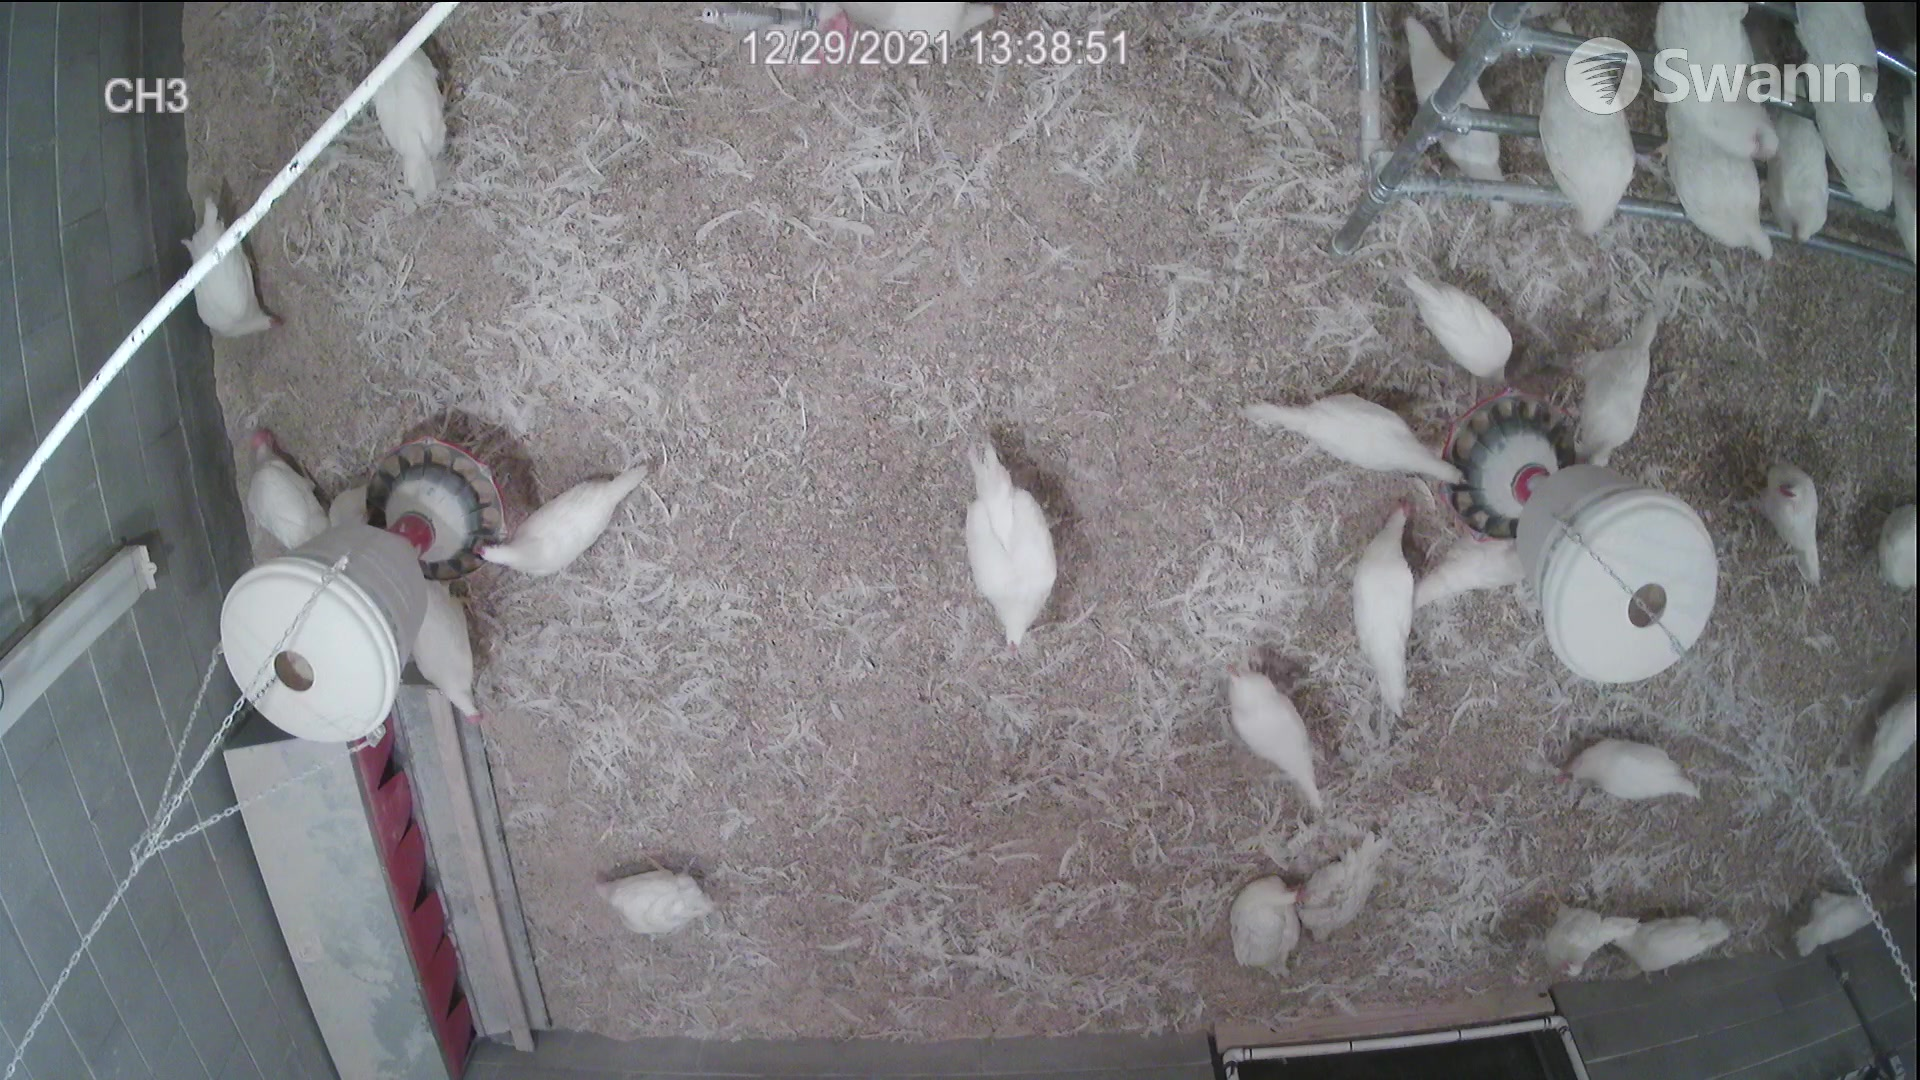Dust Bathing: (1218, 865, 1317, 982), (1294, 829, 1378, 943)
Feeding: (1233, 375, 1476, 498), (483, 463, 651, 583)
Foraging: (953, 439, 1059, 637), (178, 195, 298, 345), (363, 32, 468, 193), (1226, 659, 1335, 803), (1352, 501, 1423, 712), (1545, 727, 1705, 814), (592, 865, 723, 934)
Perching: (1643, 120, 1778, 272), (1644, 0, 1764, 166), (1531, 17, 1626, 225), (1803, 61, 1903, 219), (1753, 94, 1836, 244)
